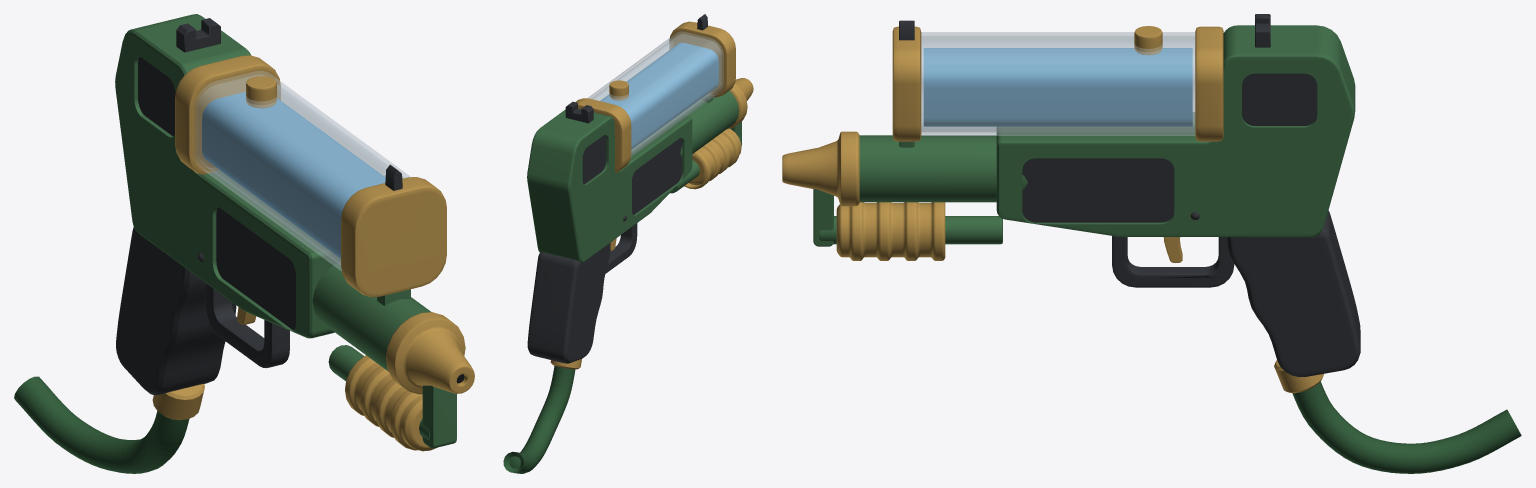
Rendered from w_water@water_hose.glb.
The picture shows the model from 3 angles, left to right: view 1: azimuth 30°, elevation 25°; view 2: azimuth 150°, elevation 25°; view 3: azimuth 270°, elevation 25°; orthographic projection. The views are drawn at different scales.
Visible parts, largest first — view 1: body_wzA__body__p3f6e48, tank_wzN__glass__gd3e4ee47, tank_wzB__accent__pb8924a, water_wzN__water__p4a98cc, grip_wzB__frame__p2f3237, body_wzN__frame__p2f3237, hose_wzN__hose__p2f5a38, nozzle_wzN__accent__pb8924a, pump_wzB__accent__pb8924a, guard_wzB__frame__p2f3237, sight_wzN__frame__p2f3237, hose_wzN__accent__pb8924a; view 2: body_wzA__body__p3f6e48, tank_wzN__glass__gd3e4ee47, grip_wzB__frame__p2f3237, water_wzN__water__p4a98cc, tank_wzB__accent__pb8924a, body_wzN__frame__p2f3237, hose_wzN__hose__p2f5a38, pump_wzB__accent__pb8924a, guard_wzB__frame__p2f3237, nozzle_wzN__accent__pb8924a, sight_wzN__frame__p2f3237; view 3: body_wzA__body__p3f6e48, tank_wzN__glass__gd3e4ee47, water_wzN__water__p4a98cc, grip_wzB__frame__p2f3237, body_wzN__frame__p2f3237, hose_wzN__hose__p2f5a38, tank_wzB__accent__pb8924a, pump_wzB__accent__pb8924a, nozzle_wzN__accent__pb8924a, guard_wzB__frame__p2f3237, sight_wzN__frame__p2f3237.
Boxes of the visible parts, left/top/right/bottom form: body_wzA__body__p3f6e48: left=115, top=14, right=456, bottom=448; tank_wzN__glass__gd3e4ee47: left=194, top=71, right=410, bottom=271; tank_wzB__accent__pb8924a: left=175, top=55, right=446, bottom=297; water_wzN__water__p4a98cc: left=202, top=92, right=385, bottom=258; grip_wzB__frame__p2f3237: left=116, top=227, right=236, bottom=395; body_wzN__frame__p2f3237: left=138, top=57, right=295, bottom=330; hose_wzN__hose__p2f5a38: left=14, top=376, right=189, bottom=473; nozzle_wzN__accent__pb8924a: left=386, top=312, right=474, bottom=394; pump_wzB__accent__pb8924a: left=345, top=355, right=437, bottom=451; guard_wzB__frame__p2f3237: left=205, top=284, right=289, bottom=367; sight_wzN__frame__p2f3237: left=176, top=18, right=402, bottom=190; hose_wzN__accent__pb8924a: left=152, top=384, right=204, bottom=420; body_wzA__body__p3f6e48: left=527, top=91, right=741, bottom=262; tank_wzN__glass__gd3e4ee47: left=588, top=31, right=723, bottom=157; grip_wzB__frame__p2f3237: left=527, top=243, right=610, bottom=363; water_wzN__water__p4a98cc: left=600, top=42, right=718, bottom=149; tank_wzB__accent__pb8924a: left=575, top=21, right=735, bottom=172; body_wzN__frame__p2f3237: left=582, top=135, right=681, bottom=221; hose_wzN__hose__p2f5a38: left=503, top=366, right=575, bottom=473; pump_wzB__accent__pb8924a: left=684, top=128, right=741, bottom=189; guard_wzB__frame__p2f3237: left=605, top=223, right=637, bottom=273; nozzle_wzN__accent__pb8924a: left=727, top=78, right=753, bottom=129; sight_wzN__frame__p2f3237: left=565, top=14, right=707, bottom=123; body_wzA__body__p3f6e48: left=813, top=25, right=1355, bottom=246; tank_wzN__glass__gd3e4ee47: left=921, top=32, right=1195, bottom=135; water_wzN__water__p4a98cc: left=923, top=48, right=1192, bottom=126; grip_wzB__frame__p2f3237: left=1227, top=210, right=1360, bottom=376; body_wzN__frame__p2f3237: left=1022, top=73, right=1317, bottom=222; hose_wzN__hose__p2f5a38: left=1292, top=381, right=1521, bottom=473; tank_wzB__accent__pb8924a: left=892, top=26, right=1223, bottom=141; pump_wzB__accent__pb8924a: left=836, top=202, right=945, bottom=260; nozzle_wzN__accent__pb8924a: left=782, top=131, right=859, bottom=206; guard_wzB__frame__p2f3237: left=1112, top=236, right=1234, bottom=287; sight_wzN__frame__p2f3237: left=899, top=14, right=1270, bottom=47.
Size of the model in its own units: 0.0765 by 0.3881 by 0.5694.
